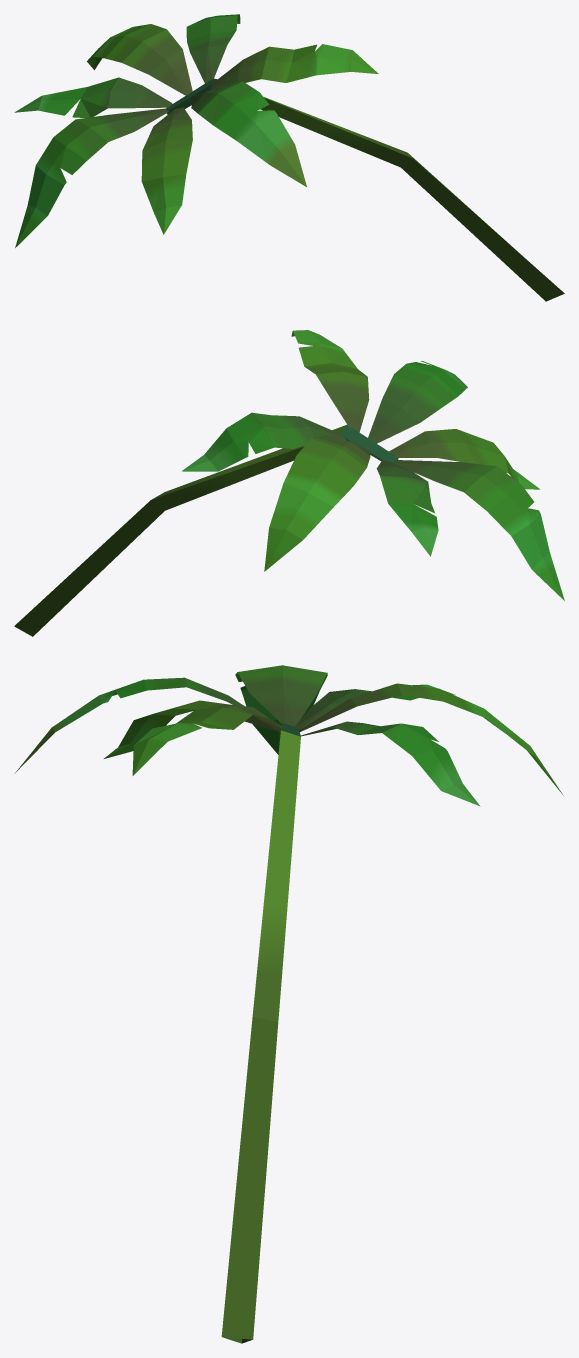
The model's file is um_scrub002.FBX.
The picture shows the model from 3 angles, top to bottom: view 1: azimuth 30°, elevation 25°; view 2: azimuth 150°, elevation 25°; view 3: azimuth 270°, elevation 25°; orthographic projection. The views are drawn at different scales.
Visible parts, largest first — view 1: um_scrub002; view 2: um_scrub002; view 3: um_scrub002.
Boxes of the visible parts, left/top/right/bottom form: um_scrub002: left=14, top=14, right=564, bottom=301; um_scrub002: left=14, top=330, right=564, bottom=636; um_scrub002: left=14, top=665, right=563, bottom=1343.
Size of the model in its own units: 2.03 by 1.19 by 1.31.
